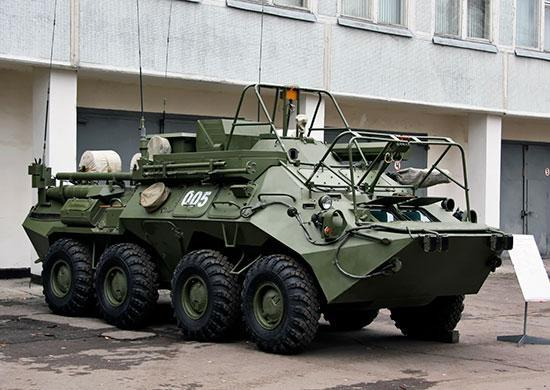tank: (27, 77, 523, 366)
